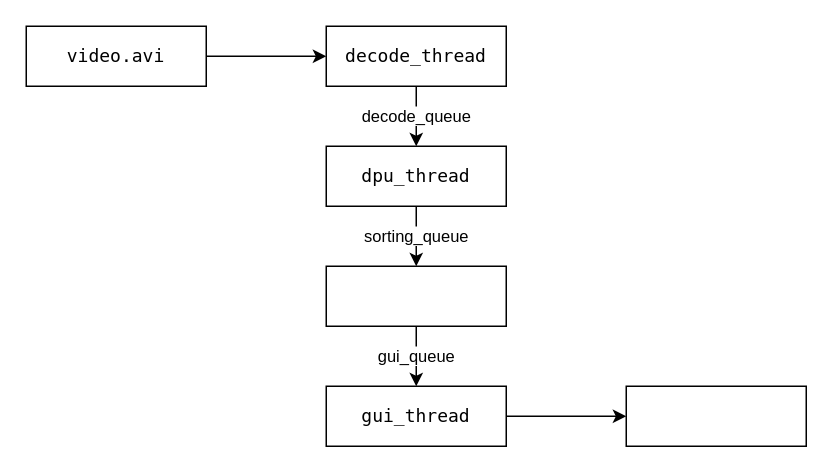
Some shapes in this 833 by 473 pixel diagram are drawn without their labels. Each missing label, with the centre of its shape:
sorting_thread: pixel 415 295
显示: pixel 715 415
